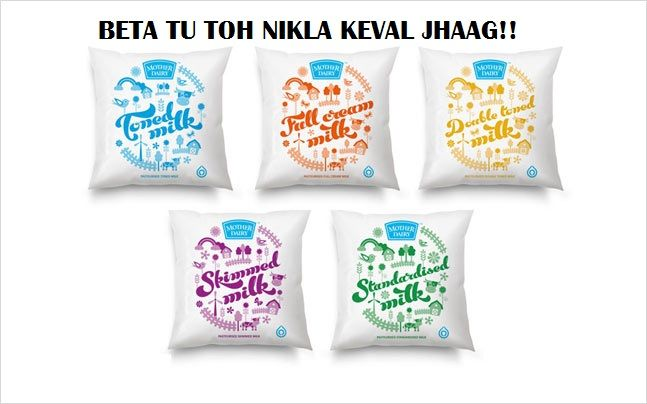Mother_Dairy: (137, 54, 179, 83), (383, 216, 422, 243), (470, 57, 510, 83), (304, 56, 345, 81), (223, 219, 261, 243)
